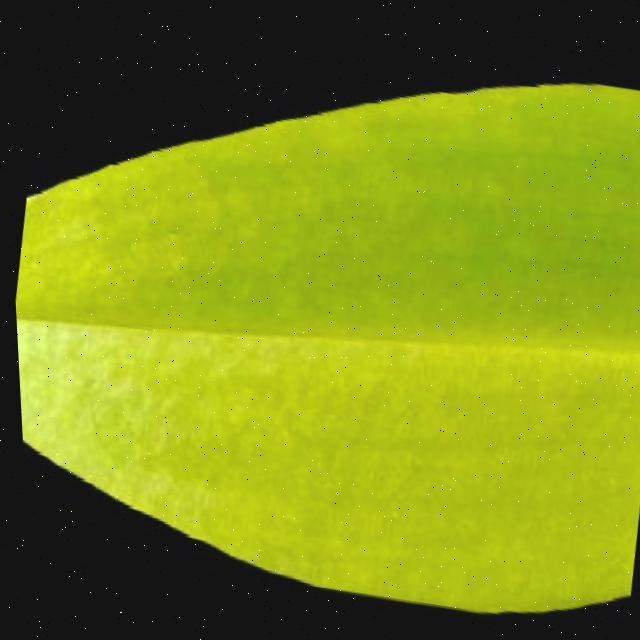spots: (12, 0, 640, 637)
